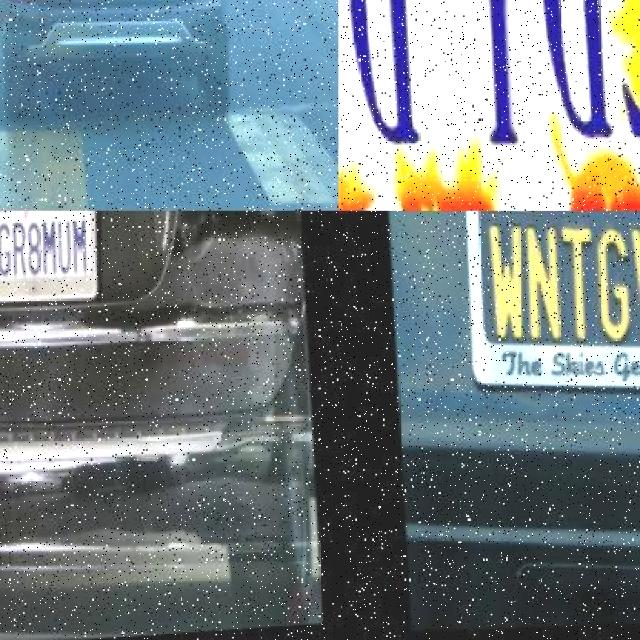licenseplate: (338, 0, 640, 209), (444, 211, 640, 417), (0, 211, 98, 314), (84, 0, 129, 18), (269, 0, 277, 3)
